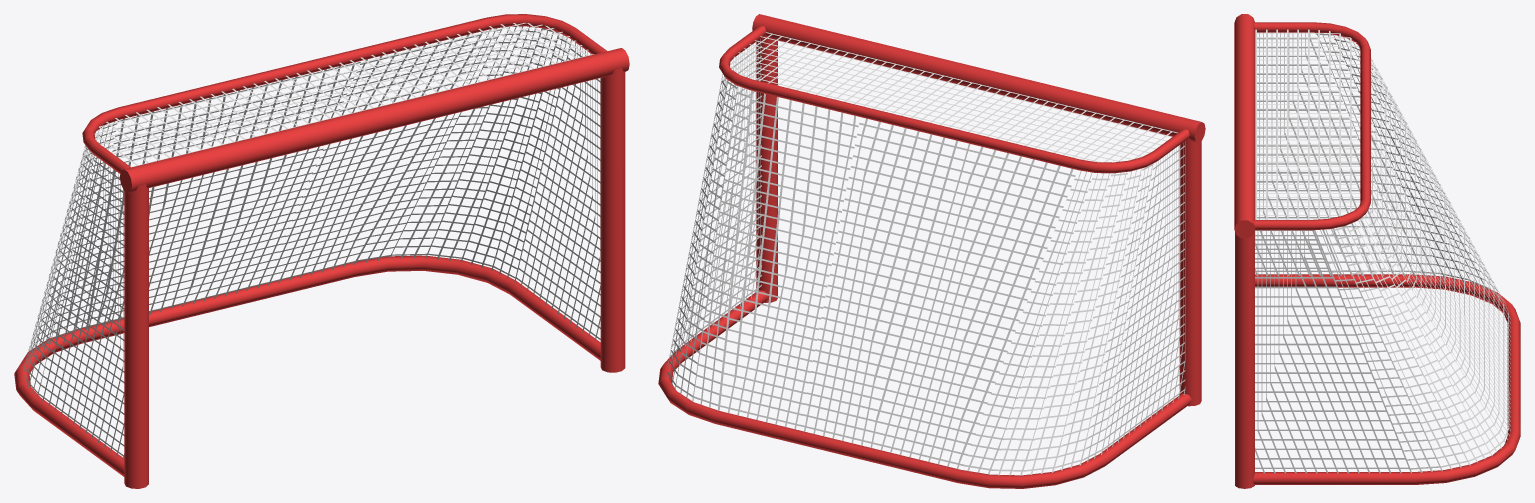
The model's file is cage.glb.
The picture shows the model from 3 angles, left to right: view 1: azimuth 30°, elevation 25°; view 2: azimuth 150°, elevation 25°; view 3: azimuth 270°, elevation 25°; orthographic projection. The views are drawn at different scales.
Visible parts, largest first — view 1: Cage; view 2: Cage; view 3: Cage.
Part boxes in pixels (x1,y1,x2,y2): Cage: (14,14,629,488); Cage: (658,14,1205,488); Cage: (1234,14,1520,488).
Size of the model in its own units: 1.86 by 1.13 by 1.09.
2 materials, 1 textured.
